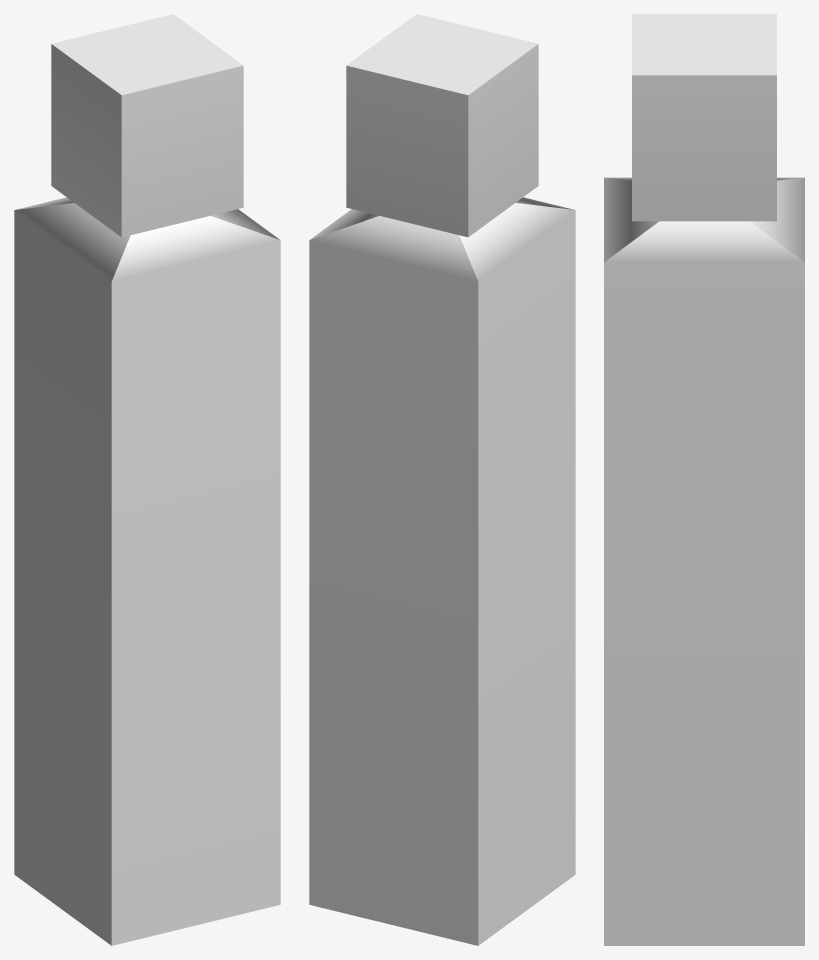
Rendered from gubbe.fbx.
3 views of the same model, side by side, from view 1: azimuth 30°, elevation 25°; view 2: azimuth 150°, elevation 25°; view 3: azimuth 270°, elevation 25° (orthographic). The views are drawn at different scales.
Visible parts, largest first — view 1: pCube1; view 2: pCube1; view 3: pCube1.
Part boxes in pixels (x1,y1,x2,y2): pCube1: [14, 14, 280, 945]; pCube1: [309, 14, 575, 945]; pCube1: [604, 14, 804, 945].
Bounding box in the file's own units: 37.07 × 175 × 37.07.
Materials: 1 (1 with a texture image).
